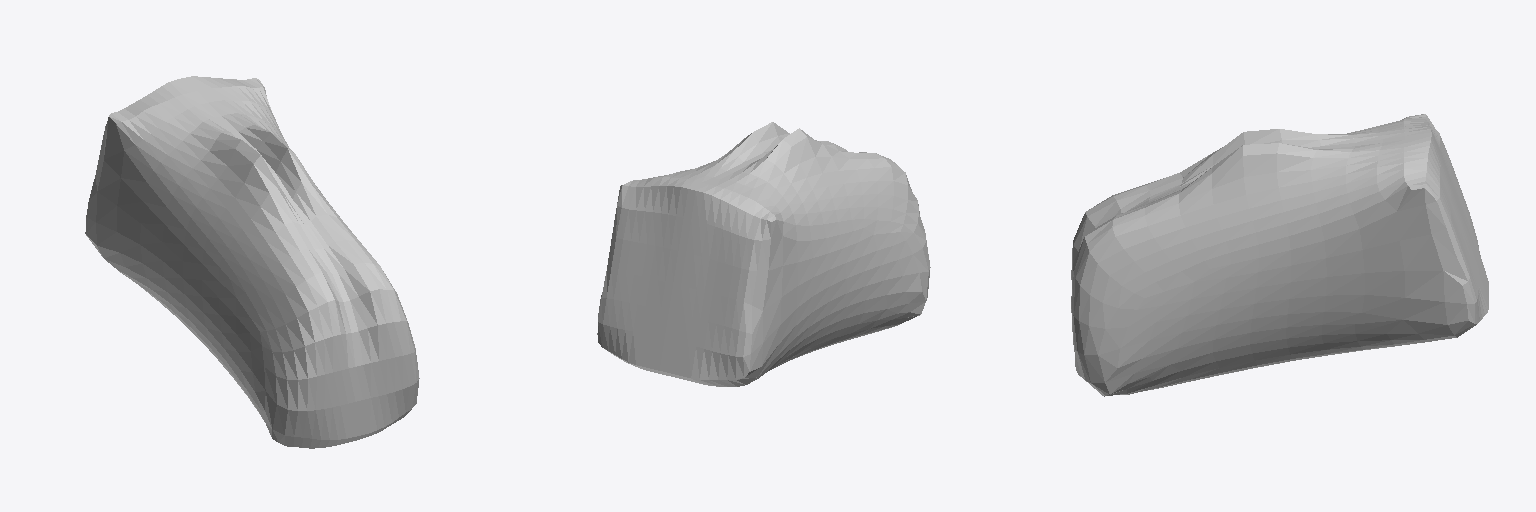
Rendered from vertabrae28.obj.
3 renders of one model, left to right at view 1: azimuth 30°, elevation 25°; view 2: azimuth 150°, elevation 25°; view 3: azimuth 270°, elevation 25°, orthographic.
Parts seen in each view (by area): view 1: Cube.118_Cube.119; view 2: Cube.118_Cube.119; view 3: Cube.118_Cube.119.
Part boxes in pixels (bbox=[...]): Cube.118_Cube.119: bbox=[85, 76, 419, 448]; Cube.118_Cube.119: bbox=[597, 122, 930, 386]; Cube.118_Cube.119: bbox=[1071, 114, 1488, 396].
Size of the model in its own units: 0.0429 by 0.0644 by 0.1.